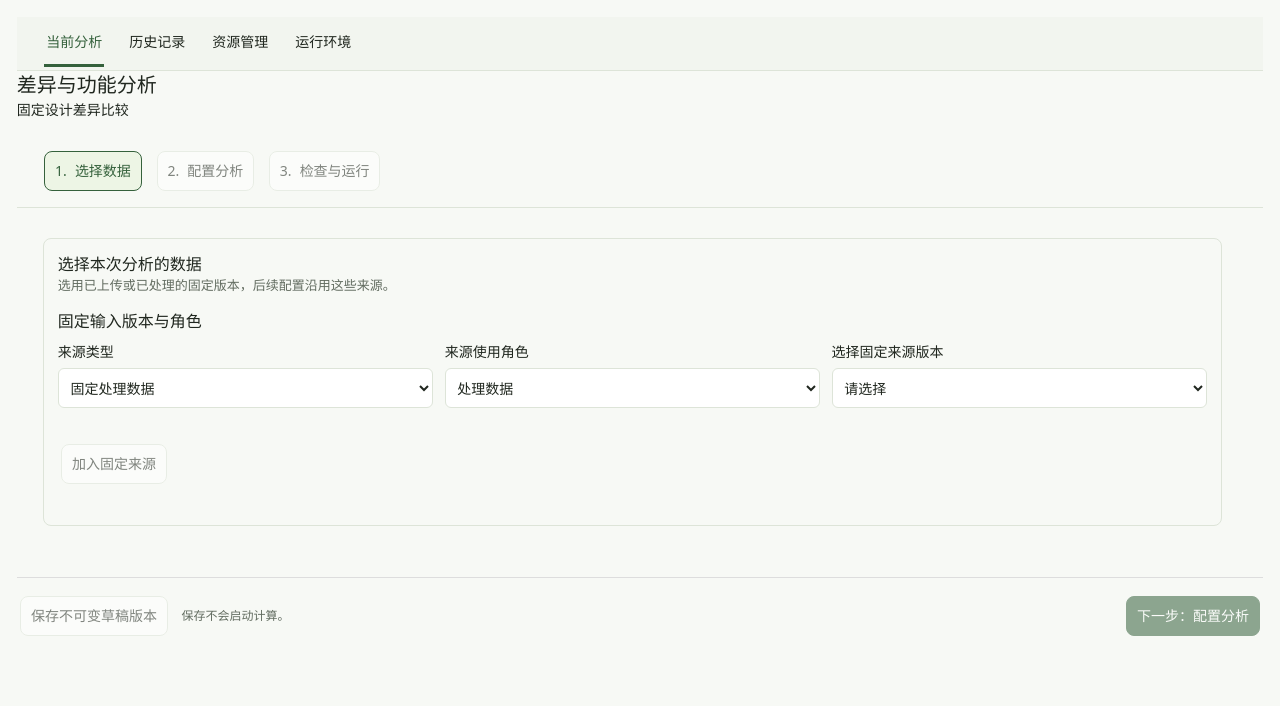
Test: starts scoped single-cell differential expression with the existing donor-based design
Select "Cells" in the dropdown labelled "选择固定来源版本" at (1019, 388), box x1=832 y1=368 x2=1207 y2=408
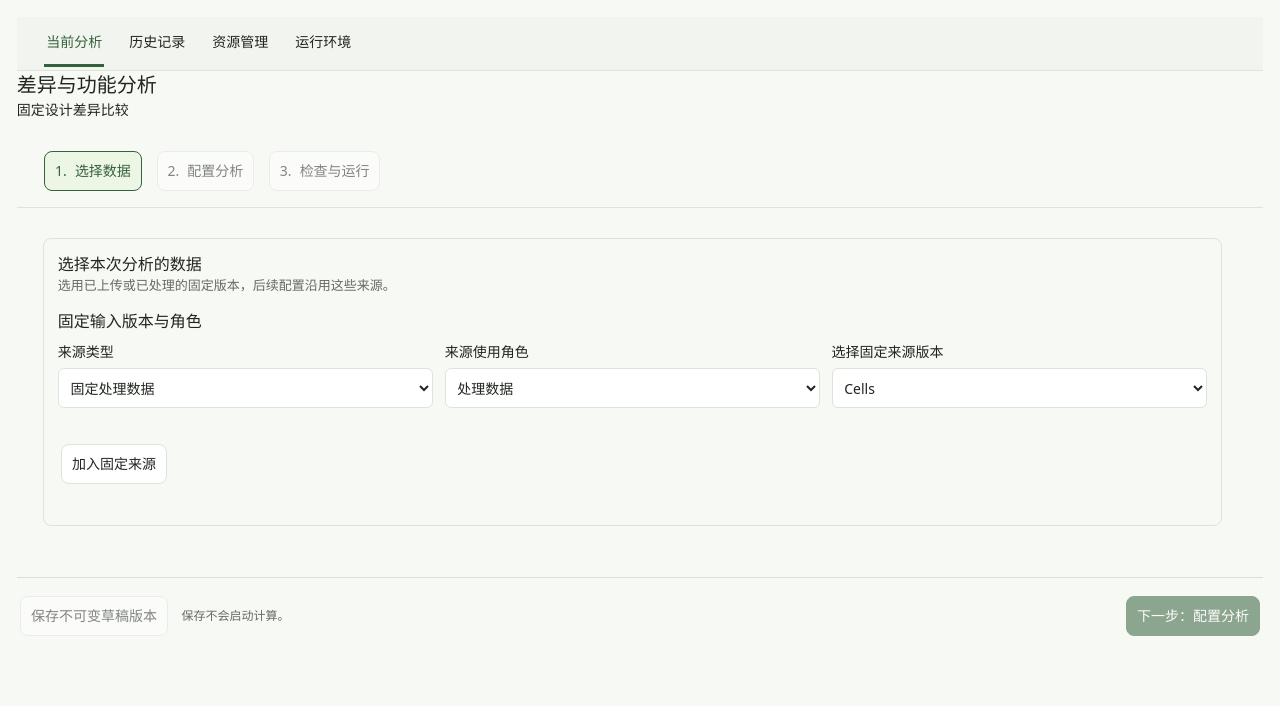
Click the button "加入固定来源" at (114, 464), box x1=61 y1=444 x2=167 y2=484
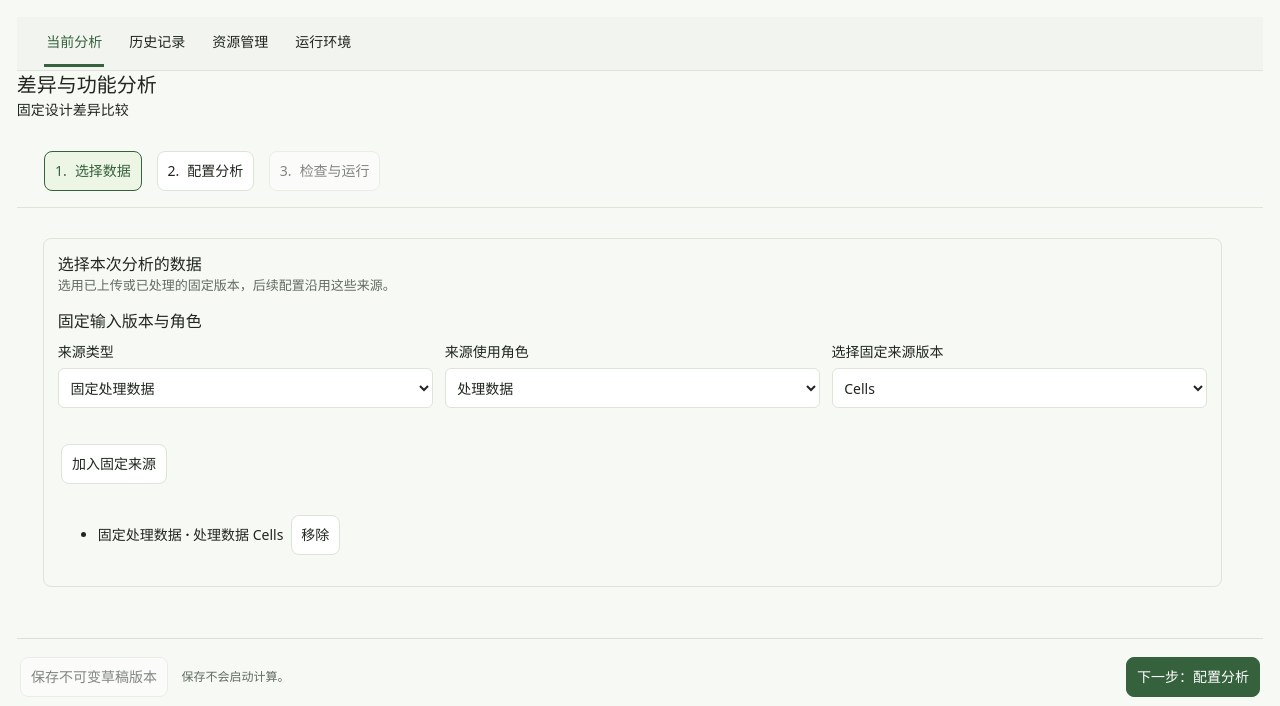
Click the button "2. 配置分析" at (205, 171), box x1=157 y1=151 x2=254 y2=191
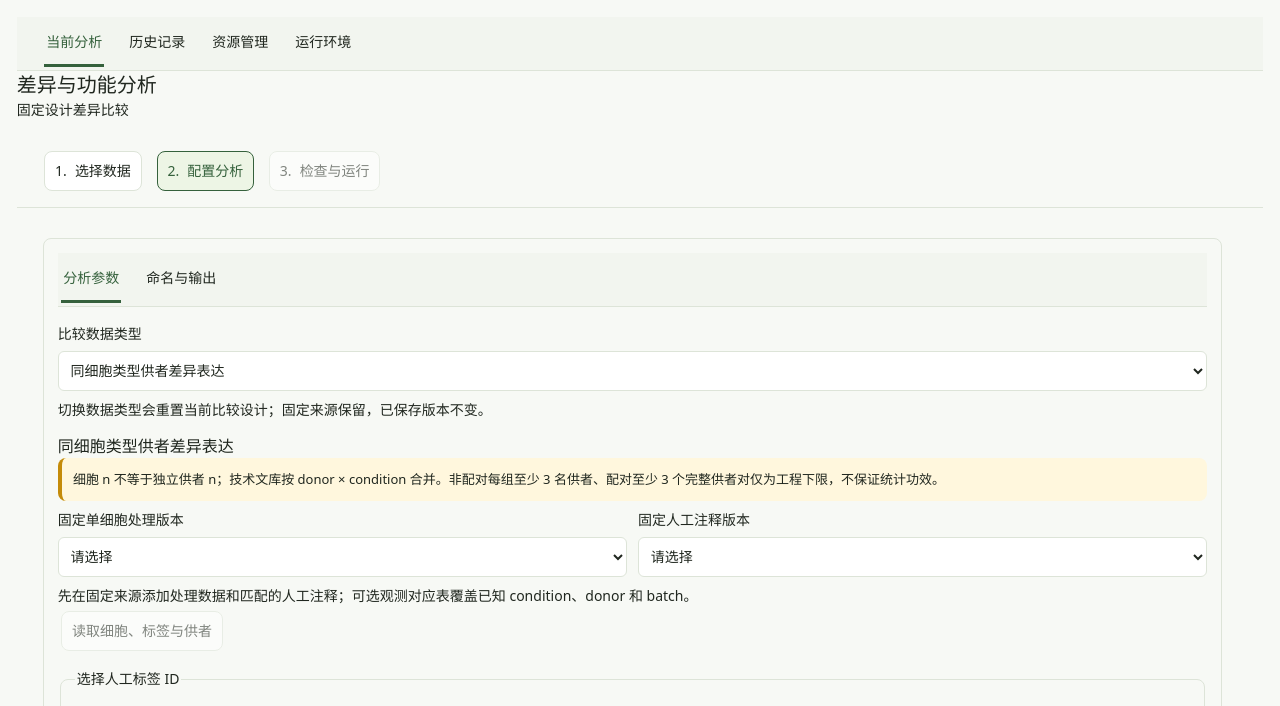
Check: the dropdown labelled "固定人工注释版本" is shown, box x1=638 y1=537 x2=1207 y2=577
Check: the dropdown labelled "比较数据类型" shows "同细胞类型供者差异表达", box x1=58 y1=351 x2=1207 y2=391
